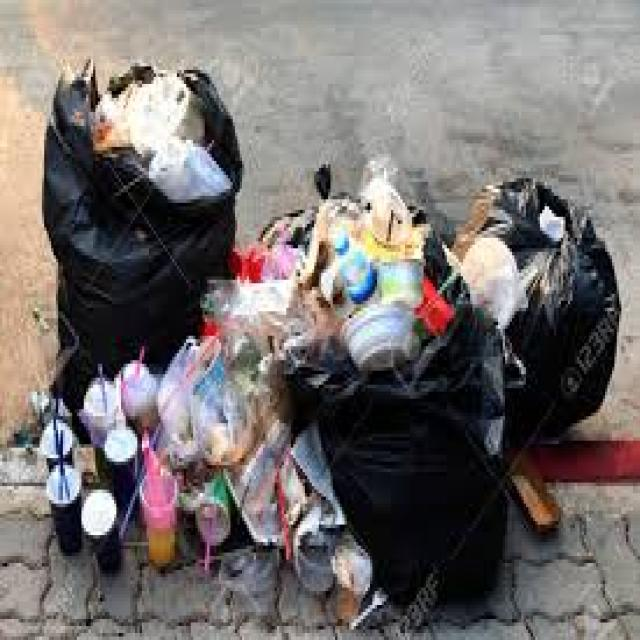garbage: (223, 171, 622, 626), (42, 53, 240, 402), (28, 364, 237, 580)
